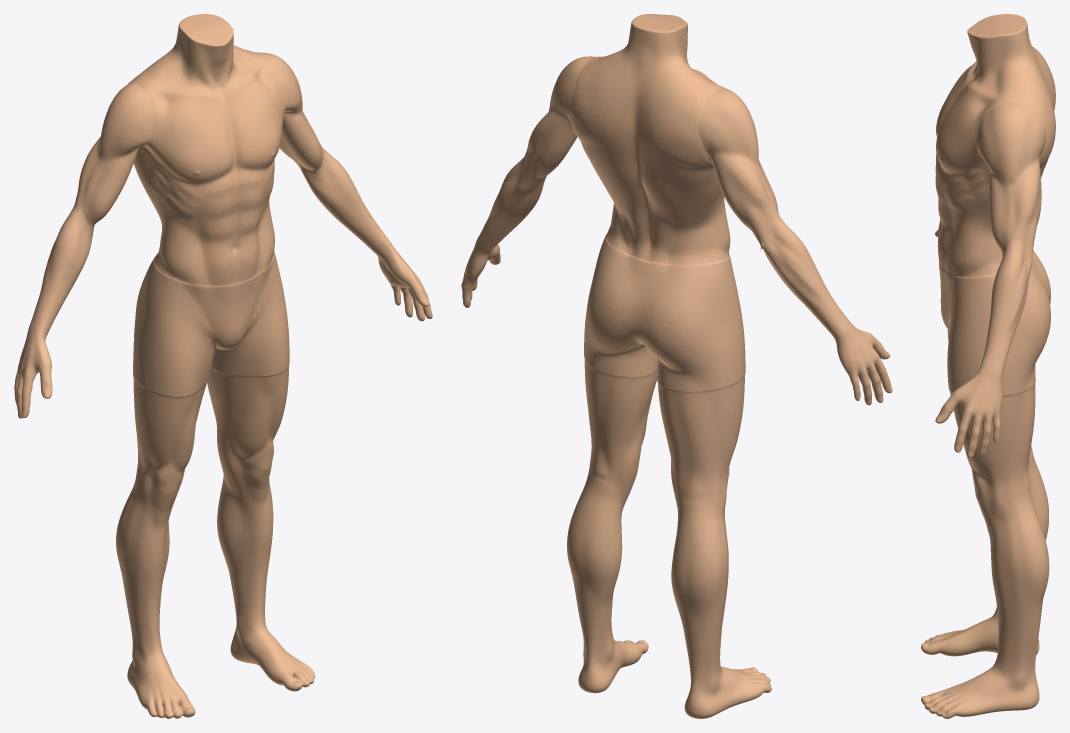
The model's file is torso_hybrid_v1.glb.
The picture shows the model from 3 angles, left to right: view 1: azimuth 30°, elevation 25°; view 2: azimuth 150°, elevation 25°; view 3: azimuth 270°, elevation 25°; orthographic projection. The views are drawn at different scales.
Size of the model in its own units: 1.24 by 1.9 by 0.3522.
Materials: 1 (1 with a texture image).
